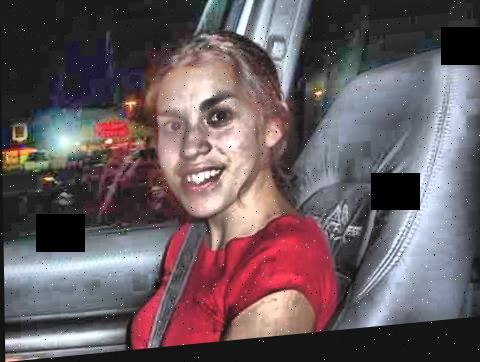seatbelt: (130, 202, 213, 345)
